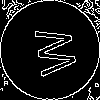W: (25, 25, 78, 79)
